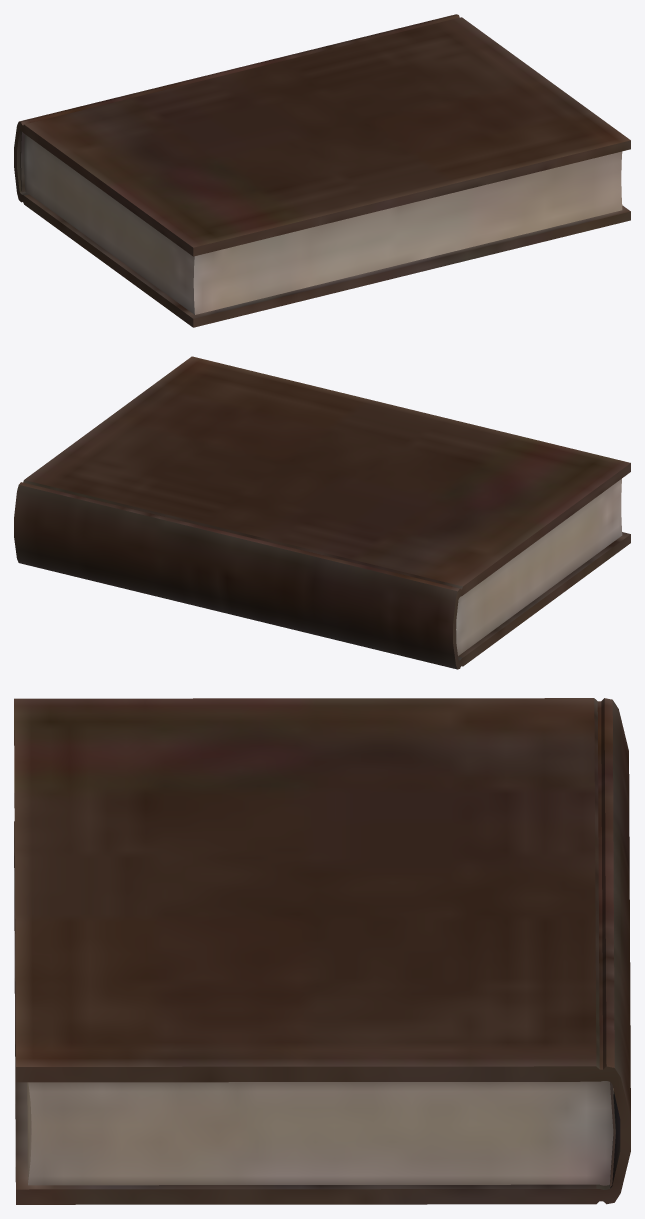
File: book-single-b.glb
The picture shows the model from 3 angles, top to bottom: view 1: azimuth 30°, elevation 25°; view 2: azimuth 150°, elevation 25°; view 3: azimuth 270°, elevation 25°; orthographic projection. The views are drawn at different scales.
Visible parts, largest first — view 1: book-single-b; view 2: book-single-b; view 3: book-single-b.
Boxes of the visible parts, x1=… form: book-single-b: x1=14, y1=14, x2=630, y2=327; book-single-b: x1=14, y1=356, x2=630, y2=669; book-single-b: x1=14, y1=698, x2=630, y2=1204.
Bounding box in the file's own units: 0.2352 × 0.041 × 0.1663.
1 material, 1 textured.
